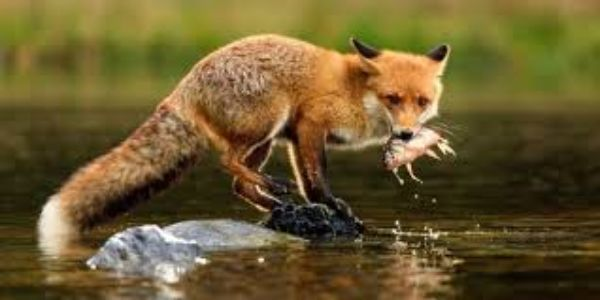fox: (50, 18, 481, 251)
